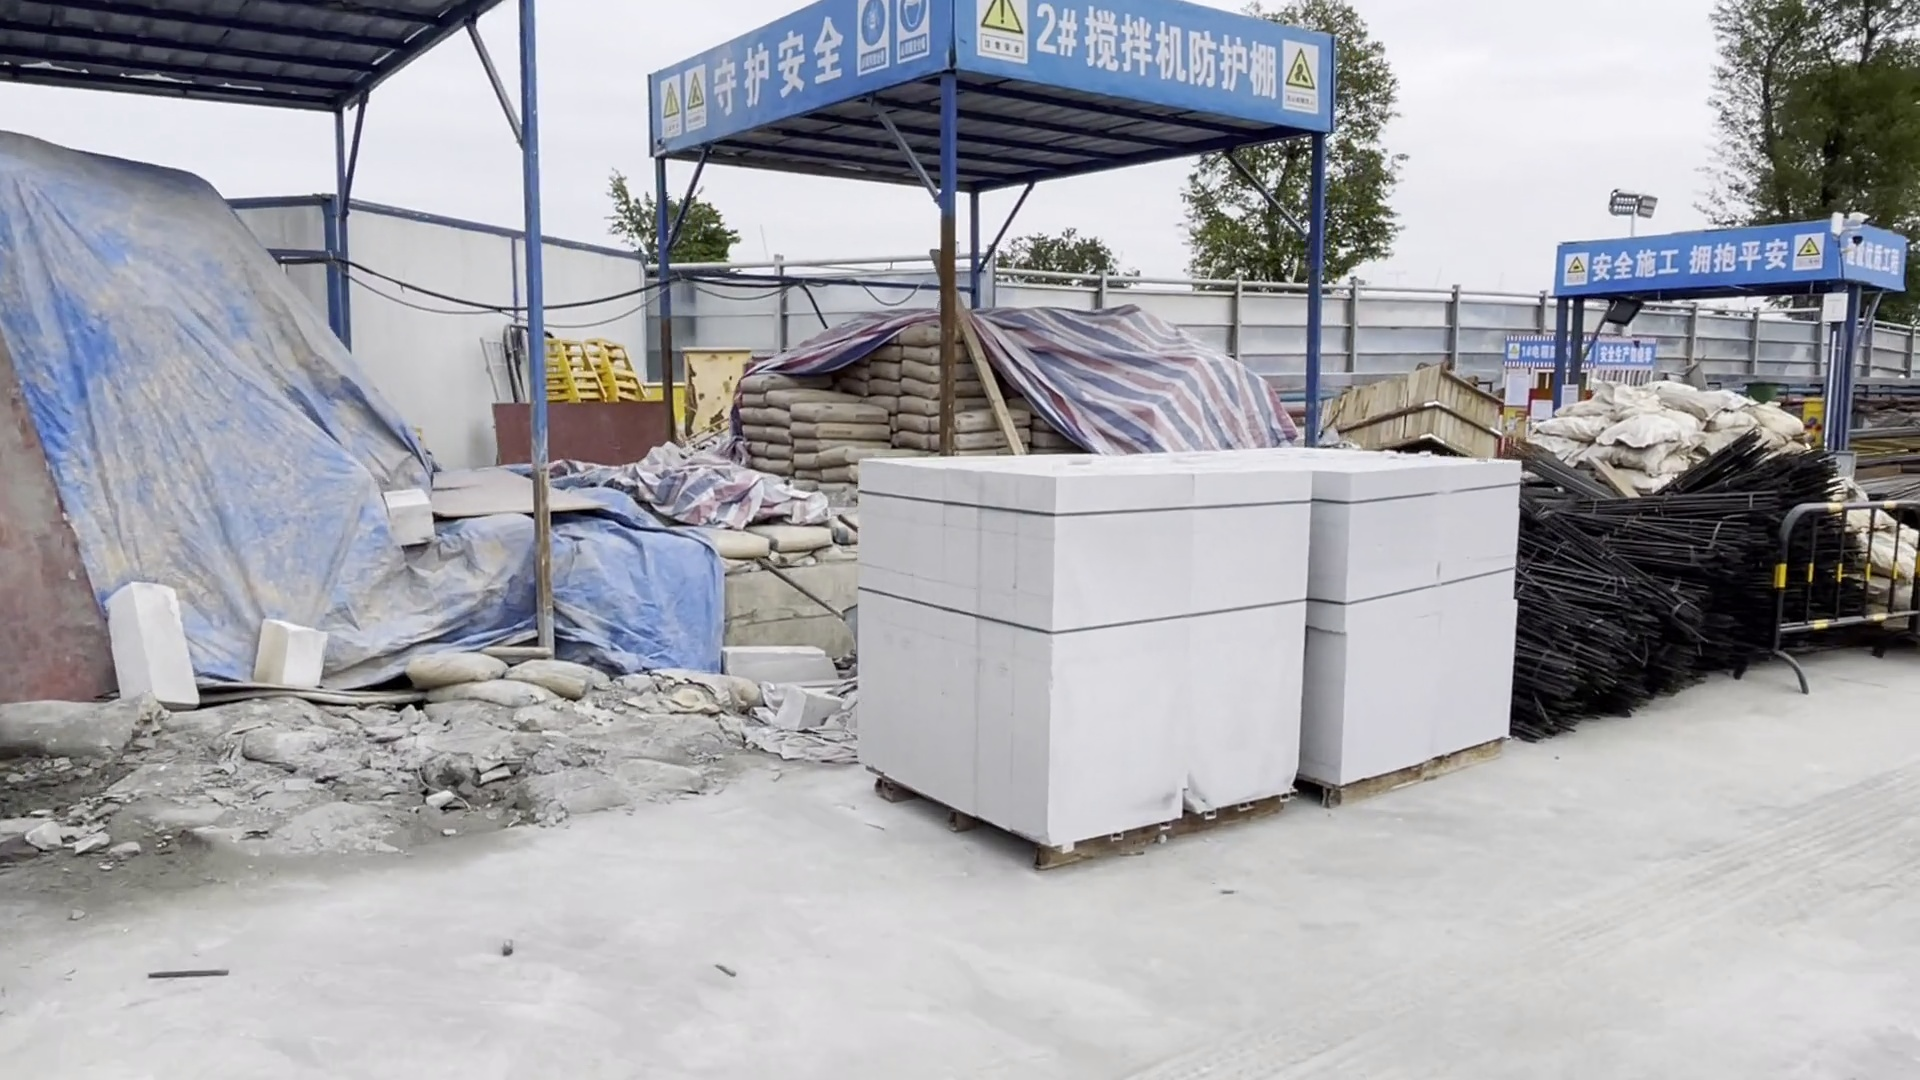brick: (827, 440, 1295, 878), (1185, 440, 1528, 818)
ebox: (676, 345, 738, 433)
slogan: (679, 28, 855, 116), (1592, 240, 1800, 284)
